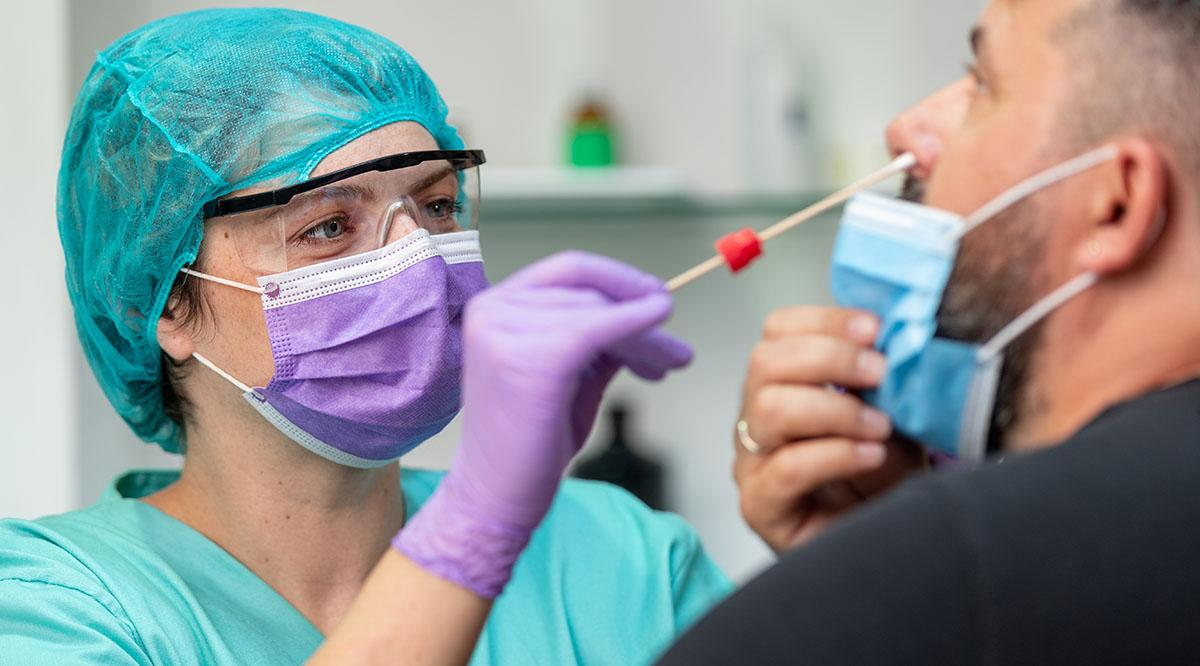glove: (450, 249, 700, 505)
hand: (730, 299, 929, 564)
